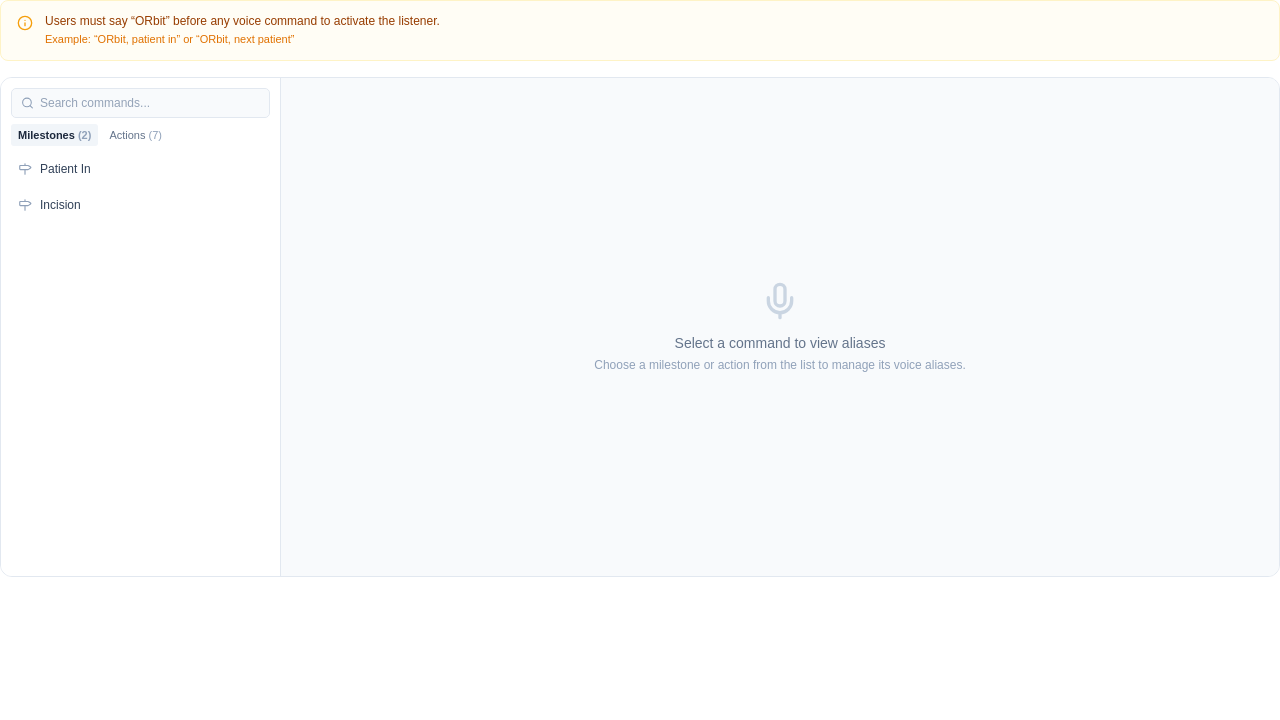
Voice Commands Workflow › Workflow: Browse milestones → select → see aliases → switch to actions › completes full browse flow
Expected: the text "Incision" is shown, 40,197 -> 81,213
Select Patient In → see alias groups
Click the text "Patient In" at coordinates (65, 169), box 40,161 -> 91,177
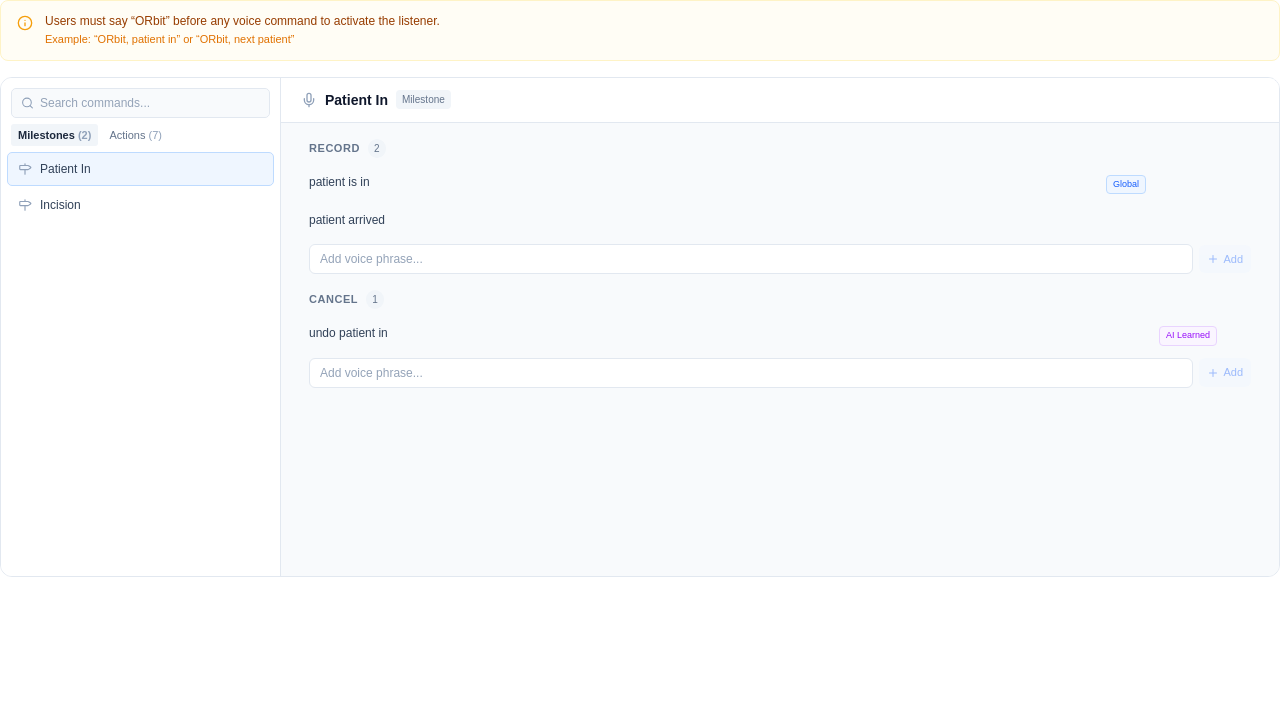
Expected: the text "patient is in" is shown, 309,175 -> 370,189
Expected: the text "undo patient in" is shown, 309,326 -> 388,340
Expected: the text "Global" is shown, 1106,174 -> 1146,194
Switch to Actions tab
Click the button "Actions (7)" at coordinates (136, 135), box 102,124 -> 169,146
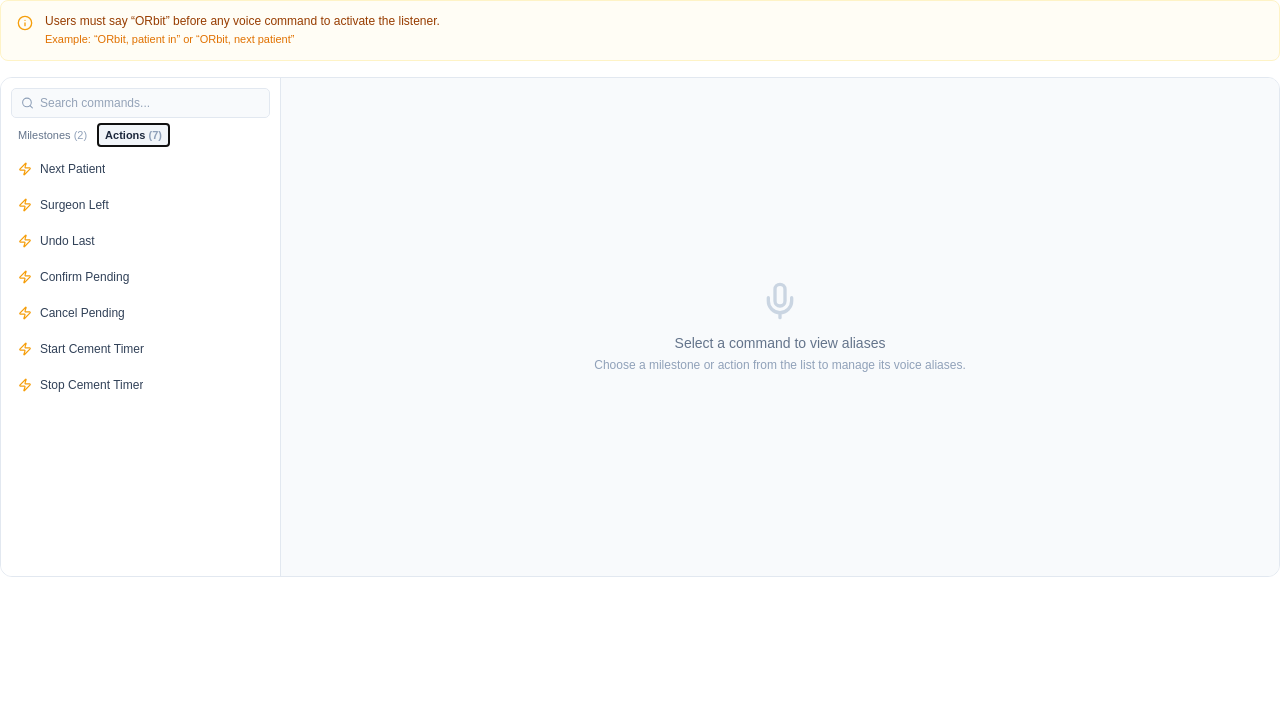
Expected: the text "Select a command to view aliases" is shown, 675,332 -> 886,352
Select Next Patient action
Click the text "Next Patient" at coordinates (73, 169), box 40,161 -> 105,177
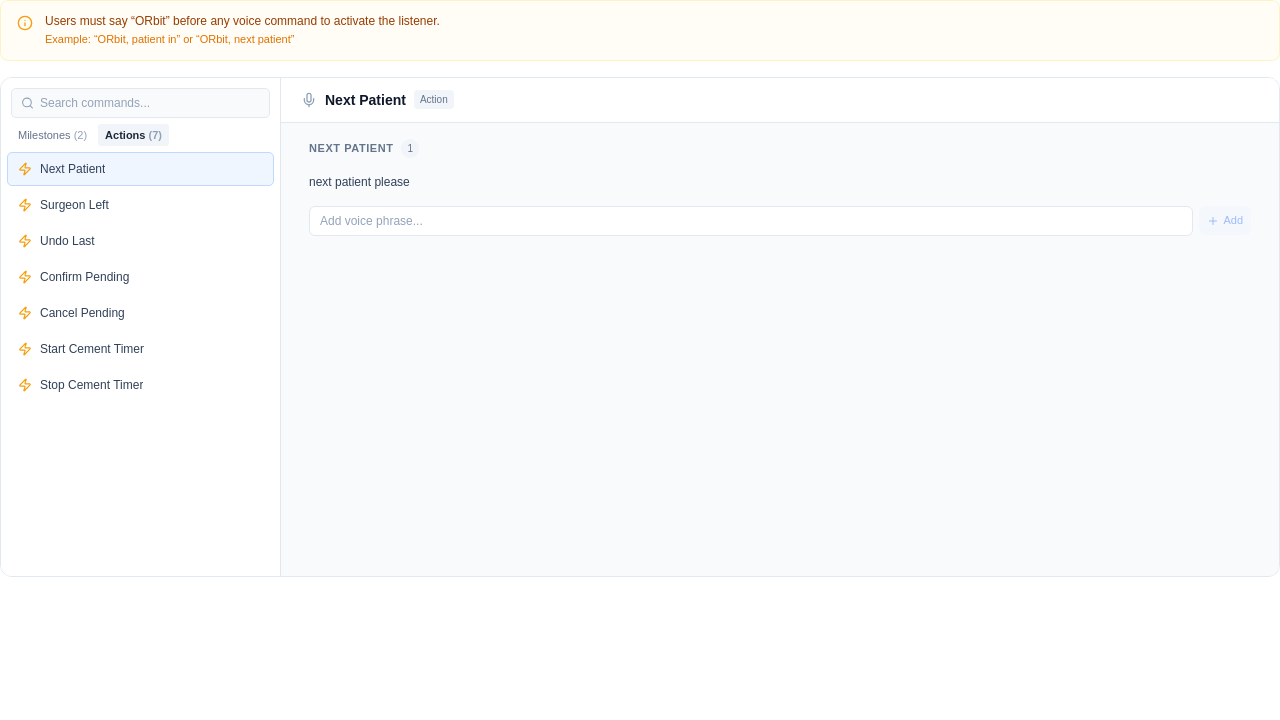
Expected: the text "next patient please" is shown, 309,174 -> 410,188
